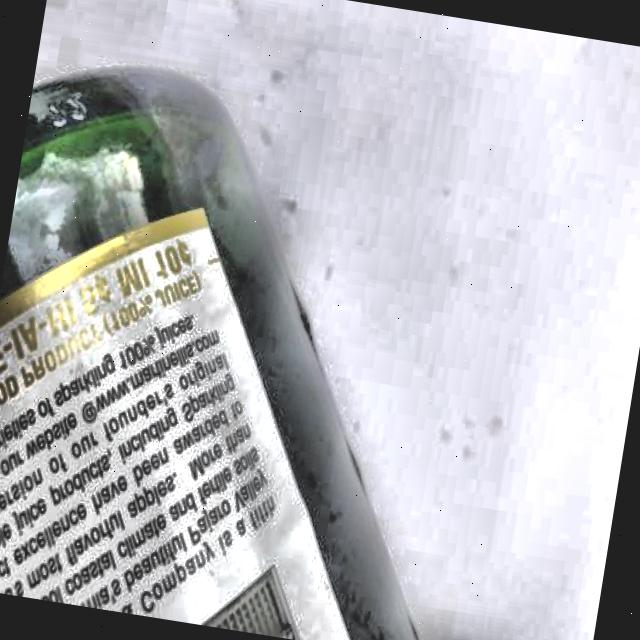glass: (0, 47, 529, 640)
